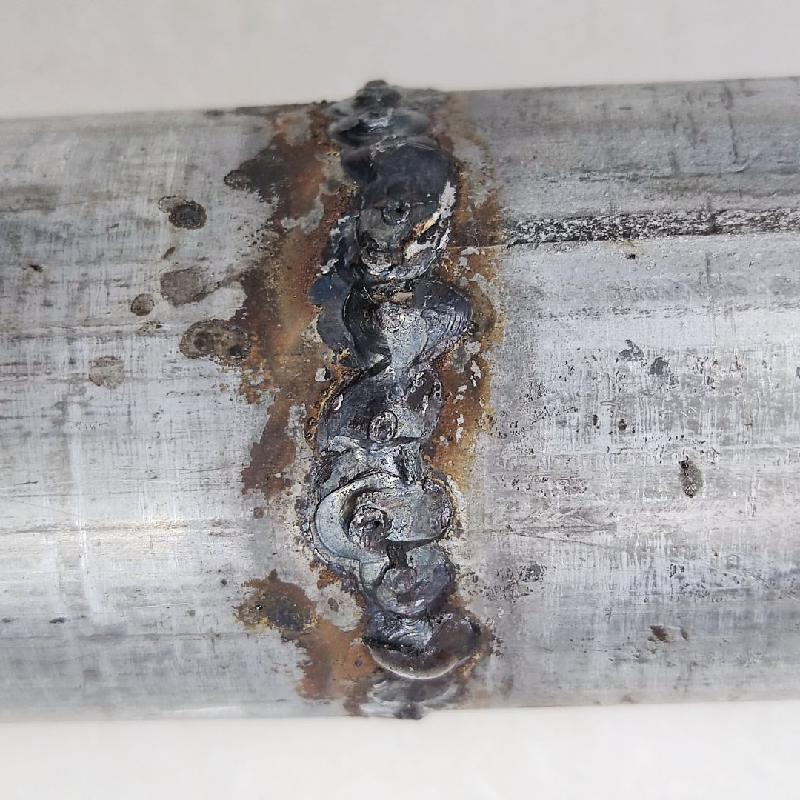Surface_pores: (365, 405, 402, 447), (352, 510, 396, 542), (382, 197, 414, 226)
Weld: (353, 610, 481, 680)
wrong_size: (322, 73, 490, 718)
